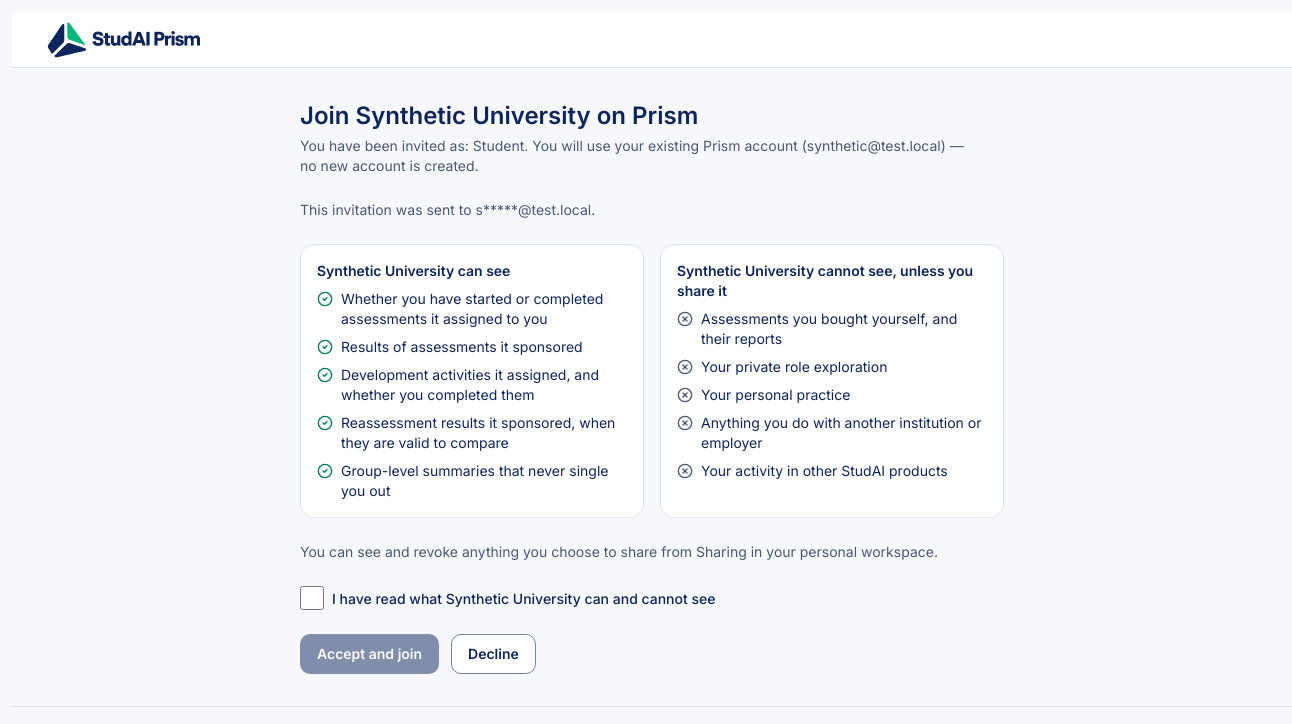
Test: CampusInvitePage › accepting refreshes the workspaces, switches to the campus workspace and lands on its home
The width and height of the screenshot is (1292, 724).
Click the checkbox labelled "I have read what Synthetic University can and cannot see": (312, 598) left=300, top=586, right=324, bottom=610
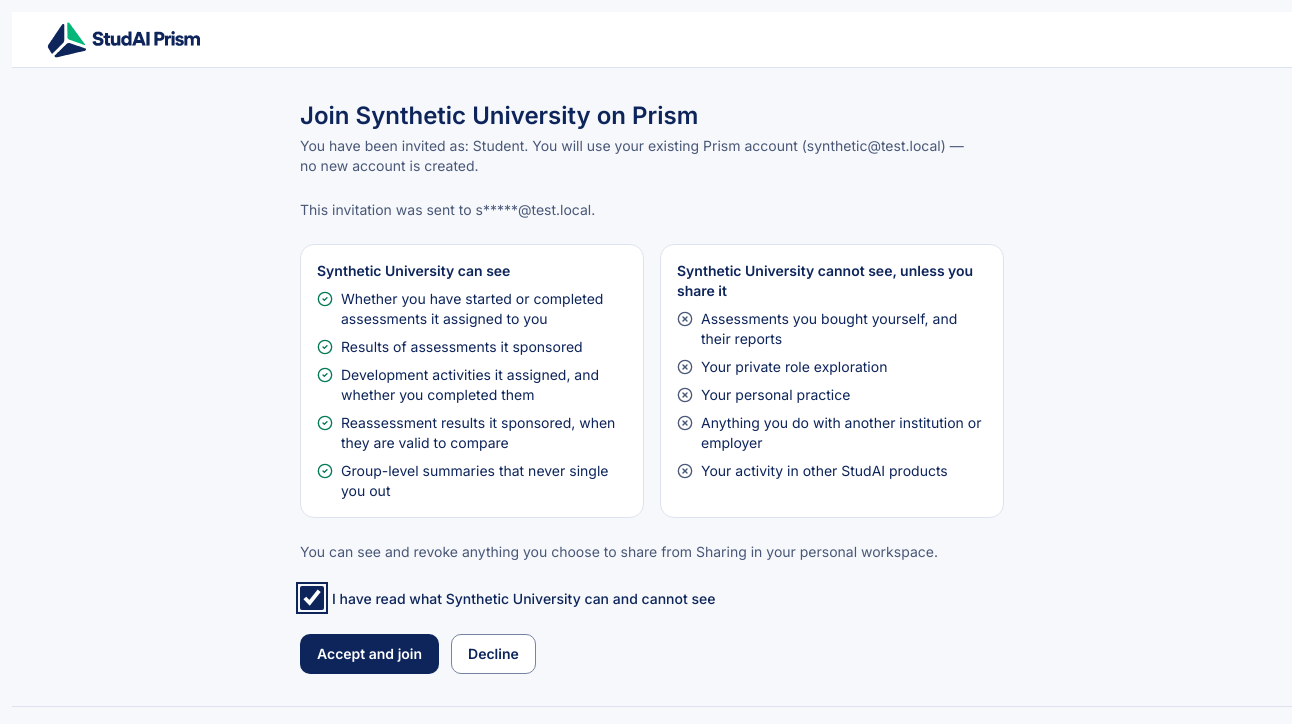
Click the button "Accept and join": (370, 654) left=300, top=634, right=439, bottom=674
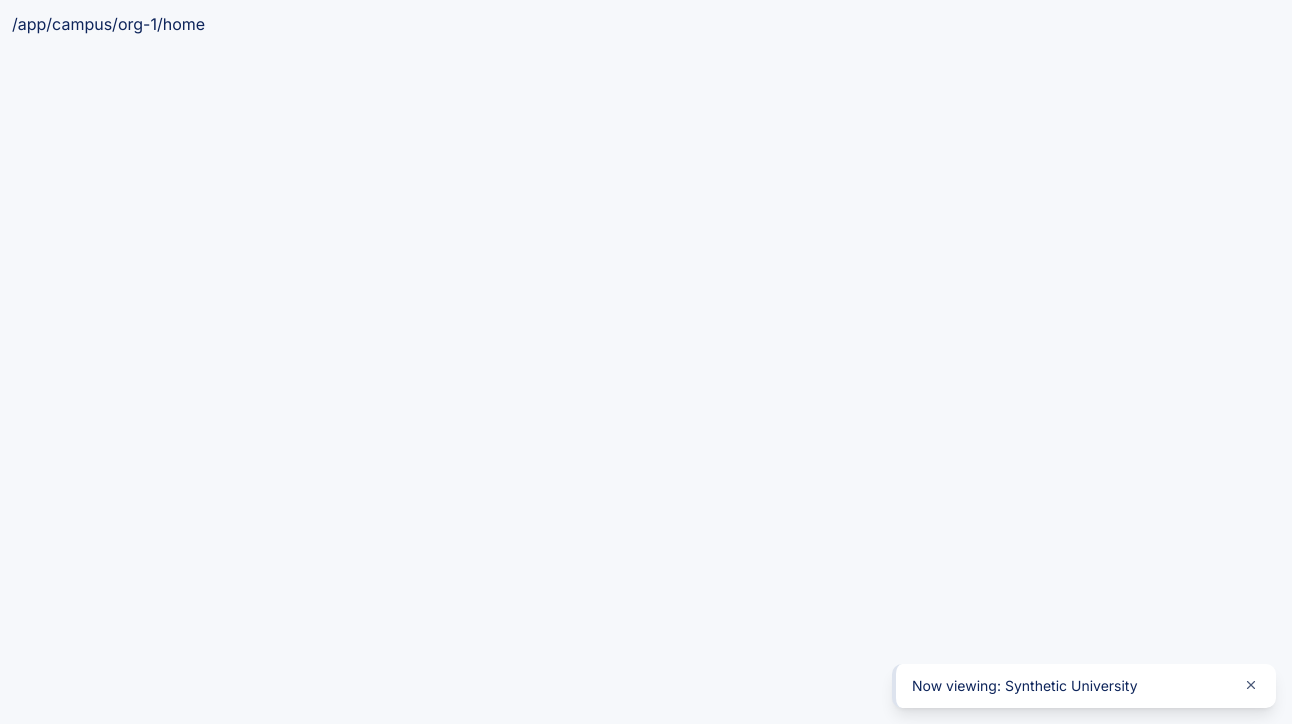
Result: the text with test id "where" reads "/app/campus/org-1/home" at left=12, top=14, right=205, bottom=34
Result: the text "Now viewing: Synthetic University" is shown at left=912, top=677, right=1138, bottom=694
